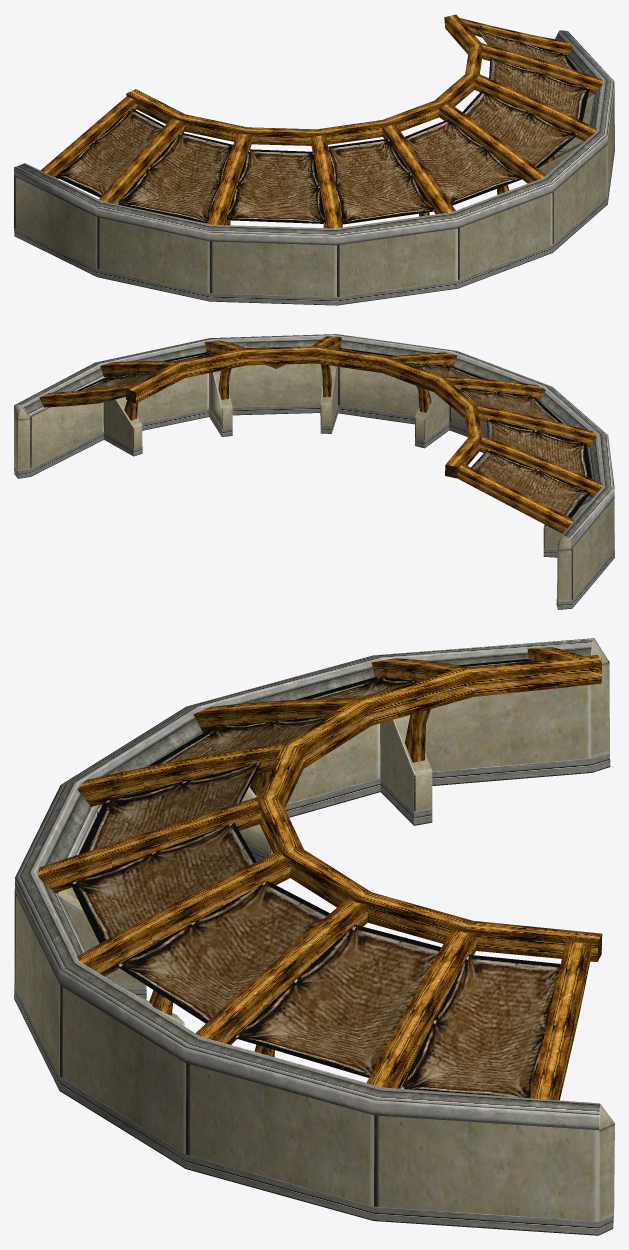
Rendered from DWARF_PALACE_FORGE_WORKAREA.fbx.
The picture shows the model from 3 angles, top to bottom: view 1: azimuth 30°, elevation 25°; view 2: azimuth 150°, elevation 25°; view 3: azimuth 270°, elevation 25°; orthographic projection. The views are drawn at different scales.
Parts seen in each view (by area): view 1: DWARF_PALACE_FORGE_WORKAREA; view 2: DWARF_PALACE_FORGE_WORKAREA; view 3: DWARF_PALACE_FORGE_WORKAREA.
Boxes of the visible parts, x1=… form: DWARF_PALACE_FORGE_WORKAREA: x1=14, y1=14, x2=614, y2=305; DWARF_PALACE_FORGE_WORKAREA: x1=14, y1=334, x2=614, y2=609; DWARF_PALACE_FORGE_WORKAREA: x1=14, y1=638, x2=614, y2=1235.
Size of the model in its own units: 200051 by 39622 by 106544.
Materials: 6 (6 with a texture image).
